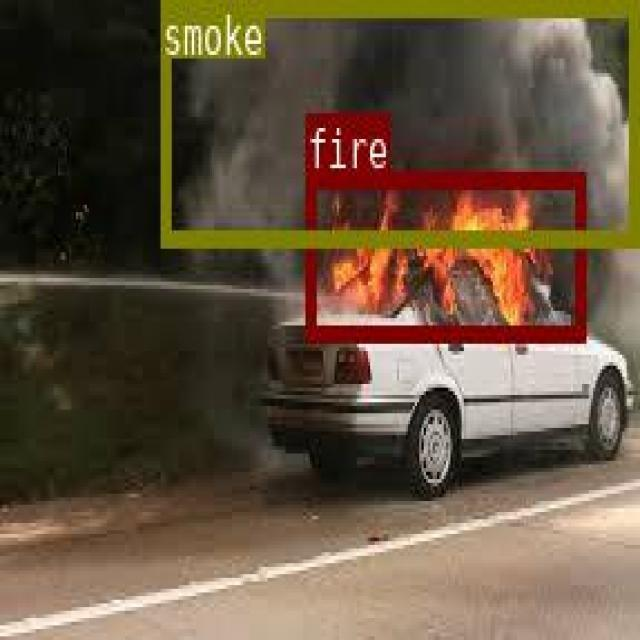fire: (305, 169, 583, 339)
smoke: (158, 0, 635, 241)
